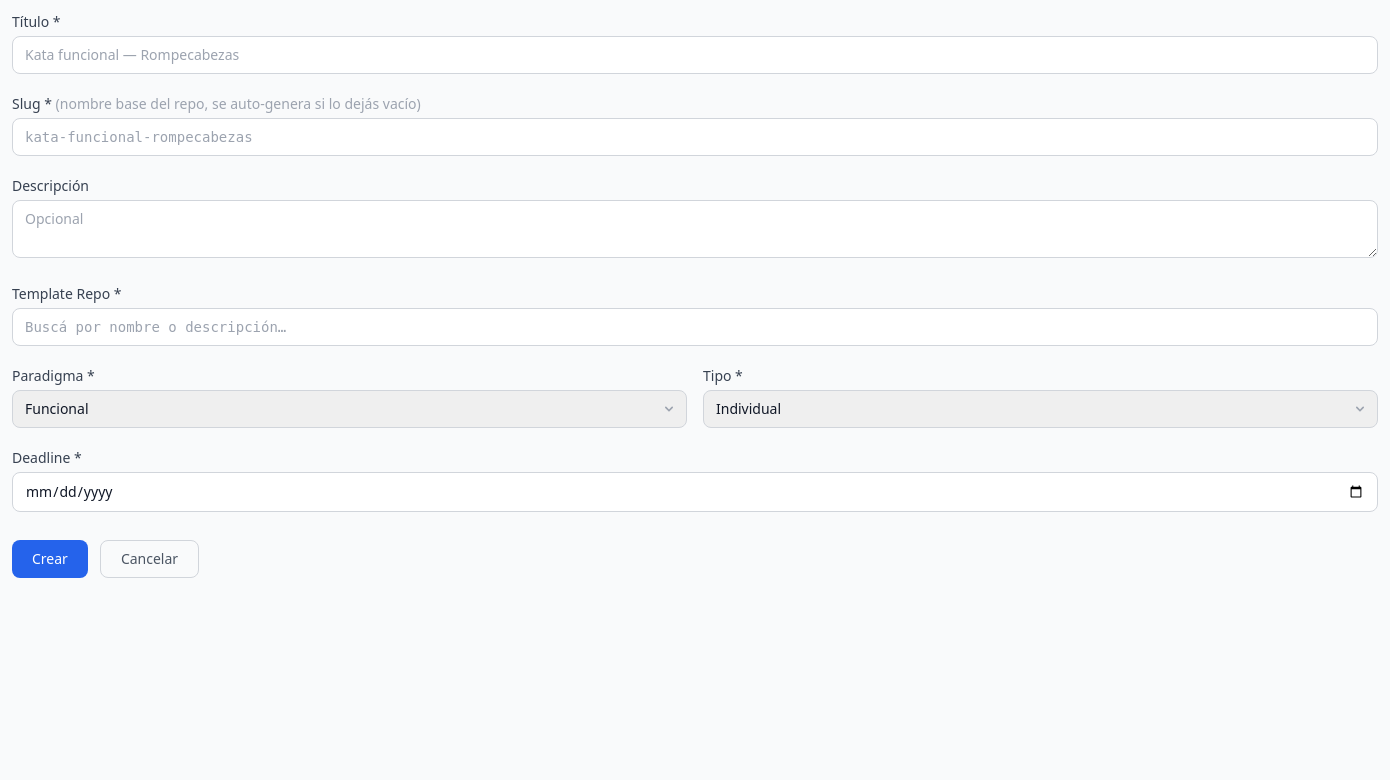
Test case: AssignmentForm › combobox de templates › muestra 'Sin resultados' cuando no hay coincidencias
In the field with placeholder "Buscá por nombre o descripción…": (695, 327) [12,308,1378,346], type "xxxxxxxxx"
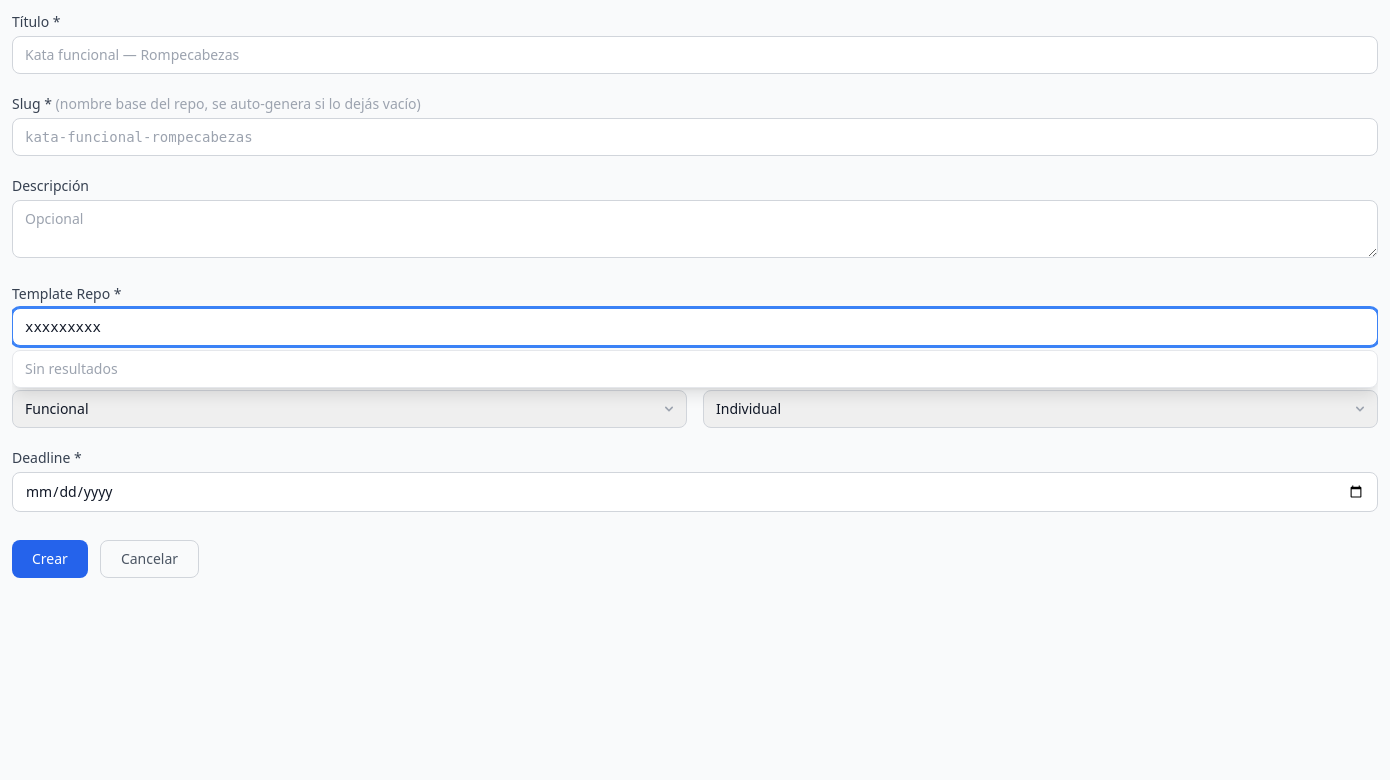
expect the text "Sin resultados" is shown: met, box [12,350,1378,388]
